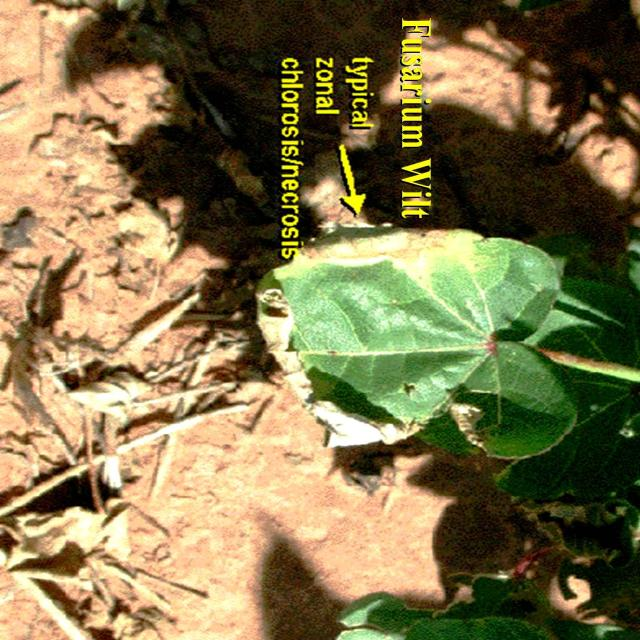Fusarium Wilt: (256, 198, 541, 366)
